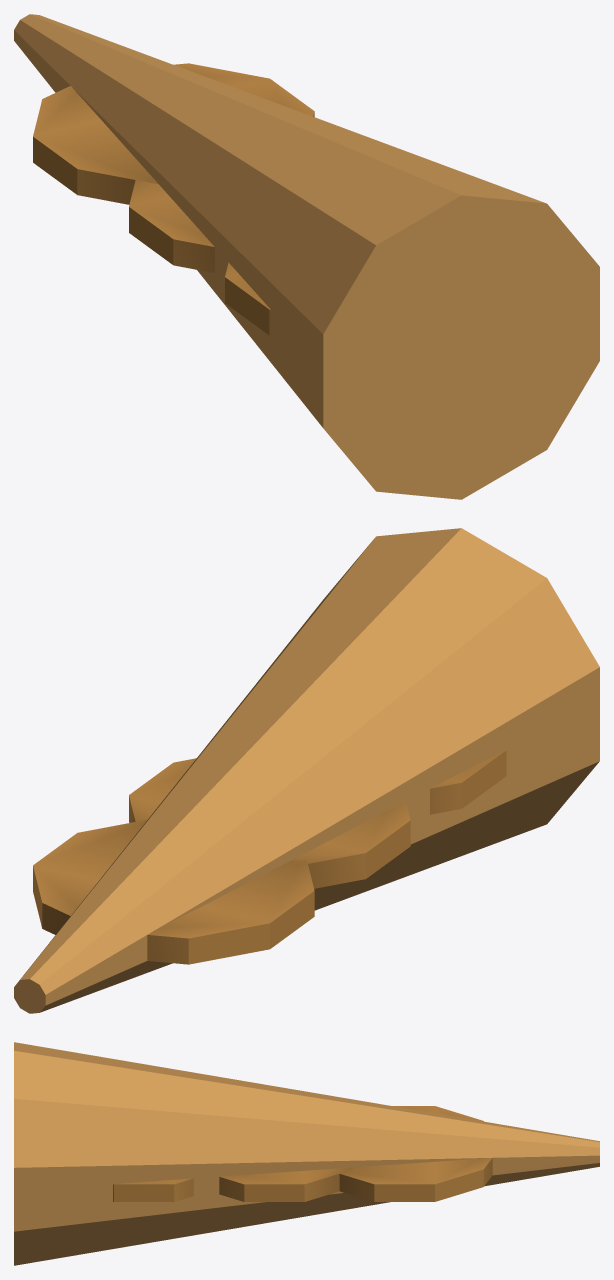
The model's file is snowman_part_carrot.glb.
3 renders of one model, top to bottom at view 1: azimuth 30°, elevation 25°; view 2: azimuth 150°, elevation 25°; view 3: azimuth 270°, elevation 25°, orthographic. The views are drawn at different scales.
Bounding box in the file's own units: 0.0666 × 0.07 × 0.18.
